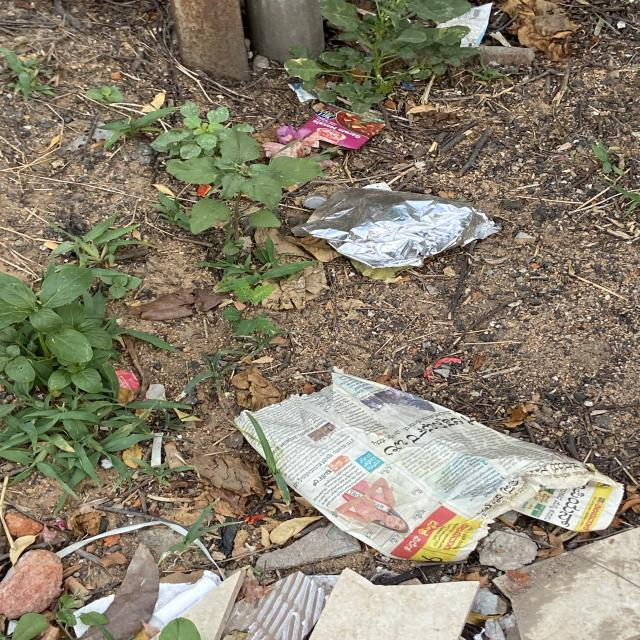metal: (302, 187, 500, 268)
paper: (252, 370, 624, 563)
plastic: (437, 1, 493, 46)
wrapper: (301, 103, 384, 149)
